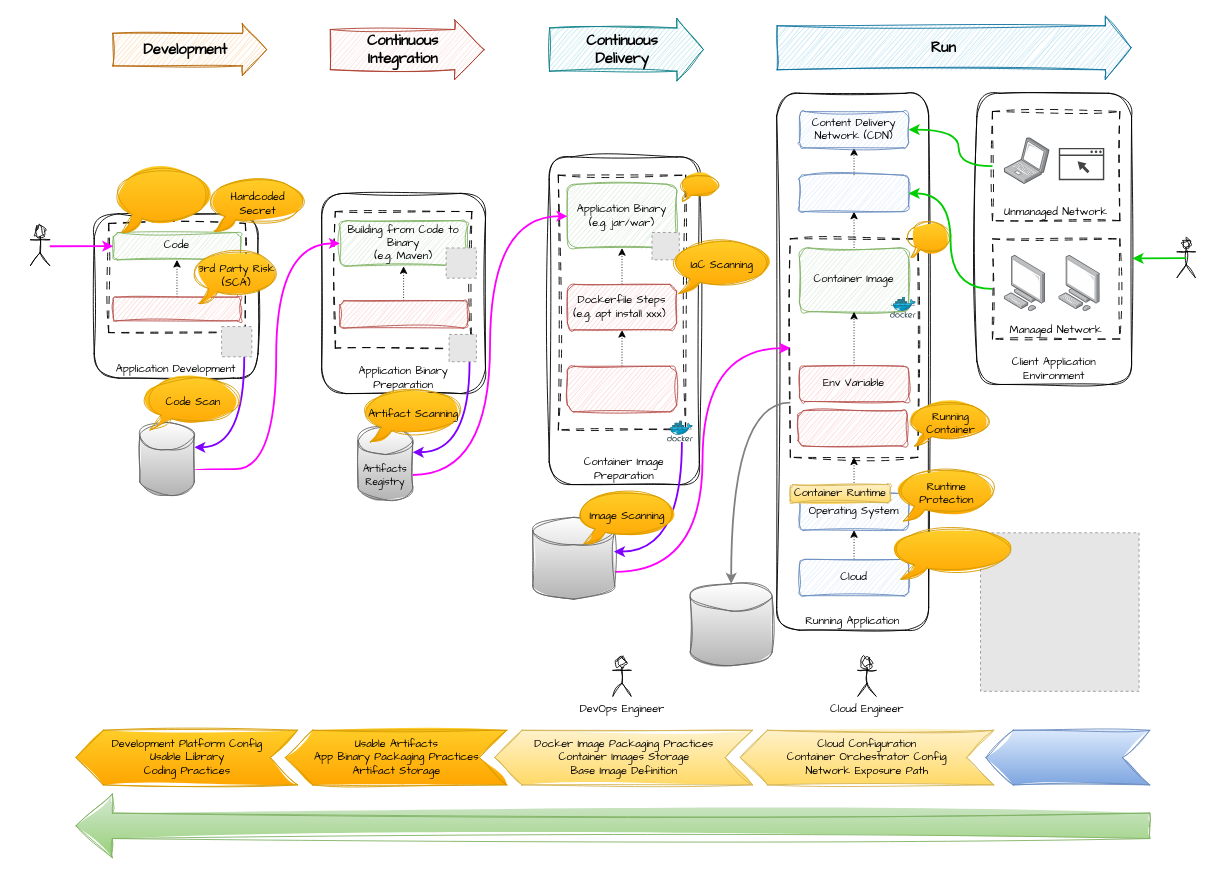
Image size: 1229x874. Some labels were removed from this diagram. Grey dashed boxes stand in for pictures. The shapes that lost their labels are listed below. From the top down, each one's centre as x and y in pixels, then its label:
At (162,199): "Code Weakness (SAST)".
At (698,186): "SCA".
At (854,193): "Ingress / LoadBalancer... etc.".
At (40,246): "Developer".
At (929,238): "DAST".
At (1185,258): "Application Users".
At (176,308): "Library".
At (403,314): "Artifacts".
At (621,388): "Base Image (e.g. ngnix:latest)".
At (852,428): "Secret".
At (166,458): "Git Repo".
At (573,557): "Container Image Registry".
At (954,552): "CSPM/CWP/CDR".
At (730,624): "Application Data in Database".
At (1067,757): "Endpoint Config Network Zone Browser Access".
At (612,825): "Standardization".
